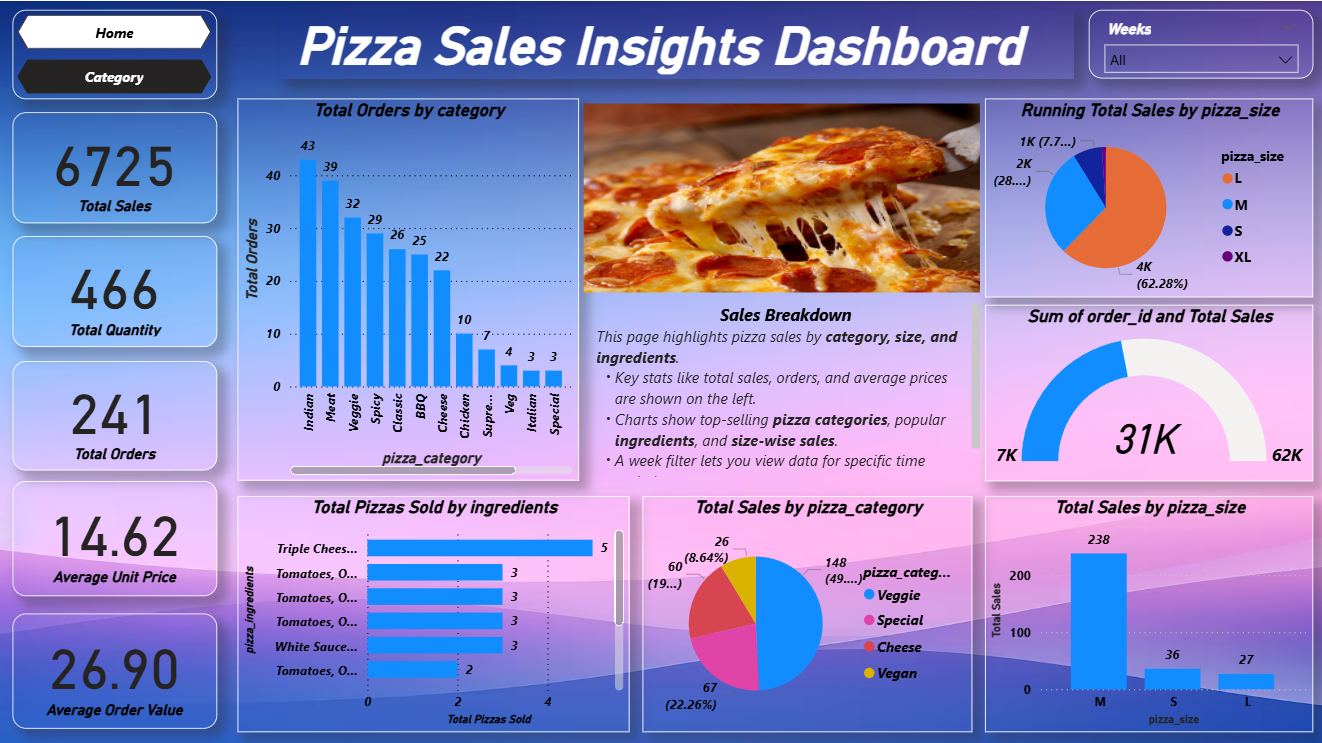

The page's visual inventory and layout, read from the dashboard file:
{"tool":"powerbi","page":{"name":"Category","canvas":[1280,720],"ordinal":1},"visuals":[{"type":"textbox","box":[270.2,8.4,766.1,67.6],"z":0},{"type":"slicer","fields":{"Values":["pizza sales1.Weeks"]},"box":[1050.8,8.4,217.2,66.4],"z":1000},{"type":"pageNavigator","box":[12.3,8.2,197.6,86.4],"z":2000},{"type":"card","title":"Total Sales","fields":{"Values":["pizza sales1.Total Sales"]},"box":[12.3,107,197.6,107],"z":3000},{"type":"card","title":"Total Sales","fields":{"Values":["pizza sales1.Total Quantity"]},"box":[12.3,226.4,197.6,107],"z":4000},{"type":"card","title":"Total Sales","fields":{"Values":["pizza sales1.Total Orders"]},"box":[12.3,347.2,197.6,105.7],"z":5000},{"type":"card","title":"Total Sales","fields":{"Values":["pizza sales1.Average Unit Price"]},"box":[12.3,463.8,197.6,111.1],"z":6000},{"type":"card","title":"Total Sales","fields":{"Values":["pizza sales1.Average Order Value"]},"box":[12.3,591.4,197.6,111.1],"z":7000},{"type":"barChart","title":"Total Pizzas Sold by ingredients","fields":{"Y":["pizza sales1.Total Pizzas Sold"],"Category":["pizza sales1.pizza_ingredients"]},"box":[229.2,477.5,378.7,227.8],"z":8000},{"type":"pieChart","fields":{"Y":["pizza sales1.Total Sales"],"Category":["pizza sales1.pizza_category"]},"box":[620.2,477.5,318.4,227.8],"z":9000},{"type":"columnChart","fields":{"Category":["pizza sales1.pizza_size"],"Y":["pizza sales1.Total Sales"]},"box":[950.9,477.5,317,227.8],"z":10000},{"type":"columnChart","title":"Total Orders by category","fields":{"Category":["pizza sales1.pizza_category"],"Y":["pizza sales1.Total Orders"]},"box":[229.2,94.7,329.3,369.1],"z":11000},{"type":"textbox","box":[570.8,286.8,380.1,177],"z":12000},{"type":"image","box":[558.5,94.7,392.5,192.1],"z":13000},{"type":"pieChart","fields":{"Category":["pizza sales1.pizza_size"],"Y":["pizza sales1.Running Total Sales"]},"box":[950.9,94.7,317,192.1],"z":14000},{"type":"gauge","fields":{"Y":["Sum(pizza sales1.order_id)"],"MinValue":["pizza sales1.Total Sales"]},"box":[950.9,293.7,317,170.2],"z":15000}]}

Visuals, with their boxes in screenshot pixels (x1, y1, x2, y2), scaled from the page's 1280x720 canvas onto the 1322x743 screenshot:
textbox: pyautogui.locateOnScreen(279, 9, 1070, 78)
slicer - pizza sales1.Weeks: pyautogui.locateOnScreen(1085, 9, 1310, 77)
pageNavigator: pyautogui.locateOnScreen(13, 8, 217, 98)
"Total Sales" card: pyautogui.locateOnScreen(13, 110, 217, 221)
"Total Sales" card: pyautogui.locateOnScreen(13, 234, 217, 344)
"Total Sales" card: pyautogui.locateOnScreen(13, 358, 217, 467)
"Total Sales" card: pyautogui.locateOnScreen(13, 479, 217, 593)
"Total Sales" card: pyautogui.locateOnScreen(13, 610, 217, 725)
"Total Pizzas Sold by ingredients" barChart: pyautogui.locateOnScreen(237, 493, 628, 728)
pieChart - pizza sales1.Total Sales x pizza sales1.pizza_category: pyautogui.locateOnScreen(641, 493, 969, 728)
columnChart - pizza sales1.pizza_size x pizza sales1.Total Sales: pyautogui.locateOnScreen(982, 493, 1310, 728)
"Total Orders by category" columnChart: pyautogui.locateOnScreen(237, 98, 577, 479)
textbox: pyautogui.locateOnScreen(590, 296, 982, 479)
image: pyautogui.locateOnScreen(577, 98, 982, 296)
pieChart - pizza sales1.pizza_size x pizza sales1.Running Total Sales: pyautogui.locateOnScreen(982, 98, 1310, 296)
gauge - Sum(pizza sales1.order_id) x pizza sales1.Total Sales: pyautogui.locateOnScreen(982, 303, 1310, 479)
